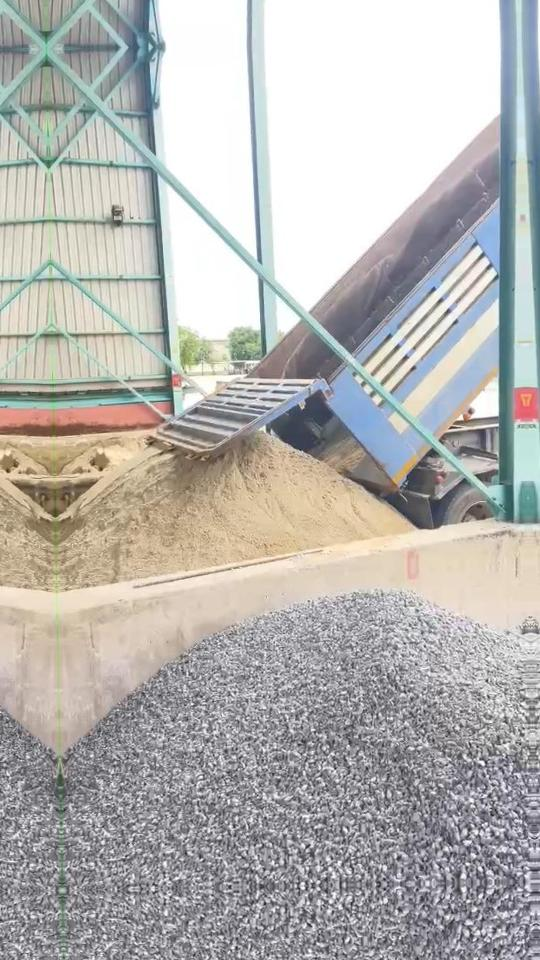gravel: (64, 590, 532, 890)
sand: (58, 433, 410, 589), (64, 439, 144, 476)
